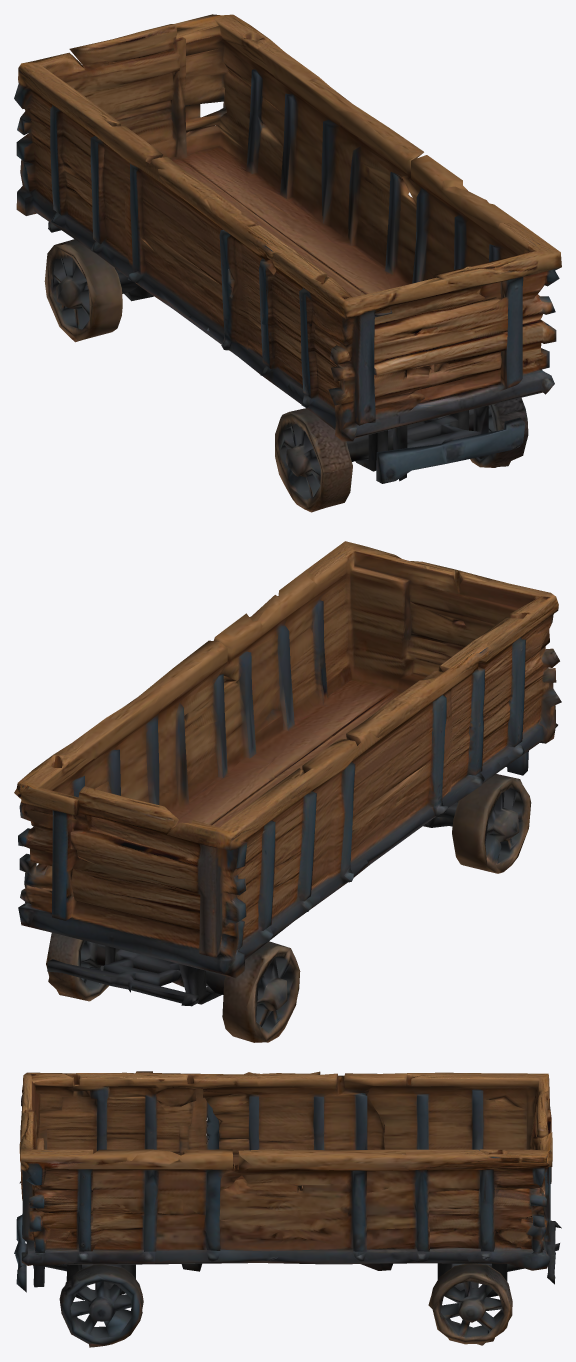
Rendered from wagon.glb.
The picture shows the model from 3 angles, top to bottom: view 1: azimuth 30°, elevation 25°; view 2: azimuth 150°, elevation 25°; view 3: azimuth 270°, elevation 25°; orthographic projection. The views are drawn at different scales.
Parts seen in each view (by area): view 1: tripo_node_aa475736-4540-434e-b0f3-a71406d82c49; view 2: tripo_node_aa475736-4540-434e-b0f3-a71406d82c49; view 3: tripo_node_aa475736-4540-434e-b0f3-a71406d82c49.
Boxes of the visible parts, bbox=[...] form: tripo_node_aa475736-4540-434e-b0f3-a71406d82c49: bbox=[14, 14, 561, 512]; tripo_node_aa475736-4540-434e-b0f3-a71406d82c49: bbox=[14, 541, 561, 1042]; tripo_node_aa475736-4540-434e-b0f3-a71406d82c49: bbox=[14, 1071, 561, 1347].
Size of the model in its own units: 1.13 by 1.2 by 2.97.
Materials: 1 (1 with a texture image).
